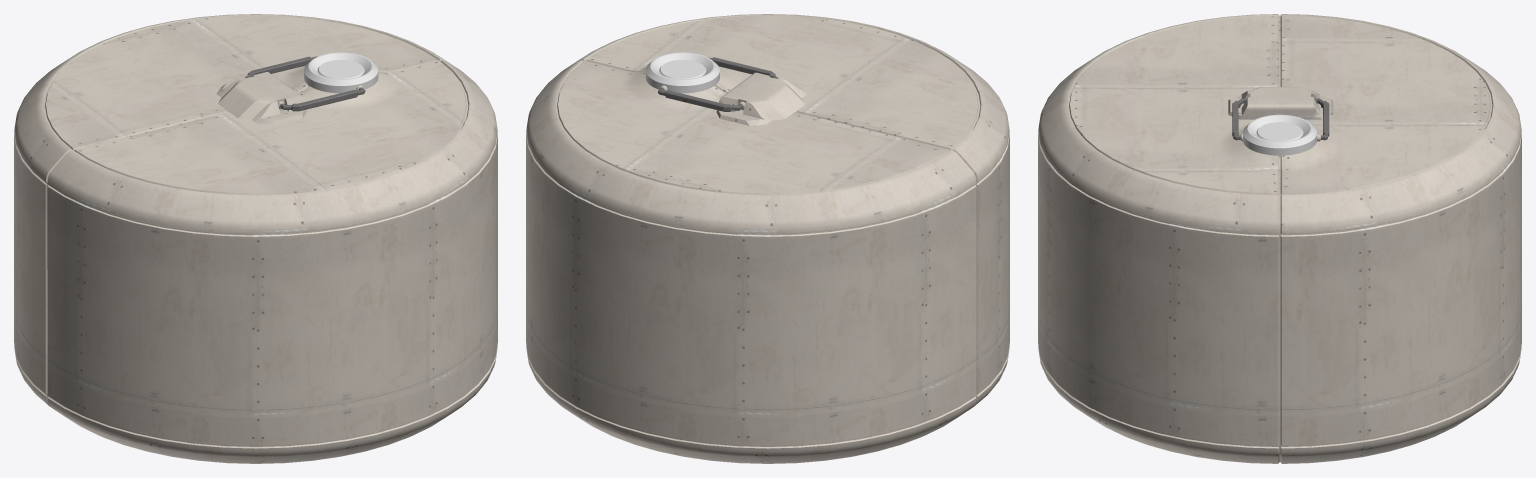
File: KB3D_CBP_WaterTank_A.fbx
The picture shows the model from 3 angles, left to right: view 1: azimuth 30°, elevation 25°; view 2: azimuth 150°, elevation 25°; view 3: azimuth 270°, elevation 25°; orthographic projection.
Parts seen in each view (by area): view 1: KB3D_CBP_WaterTank_A_Main; view 2: KB3D_CBP_WaterTank_A_Main; view 3: KB3D_CBP_WaterTank_A_Main.
Part boxes in pixels (x1=…): KB3D_CBP_WaterTank_A_Main: x1=14, y1=14, x2=497, y2=463; KB3D_CBP_WaterTank_A_Main: x1=526, y1=14, x2=1009, y2=463; KB3D_CBP_WaterTank_A_Main: x1=1038, y1=14, x2=1521, y2=463.
Bounding box in the file's own units: 740 × 484 × 740.
